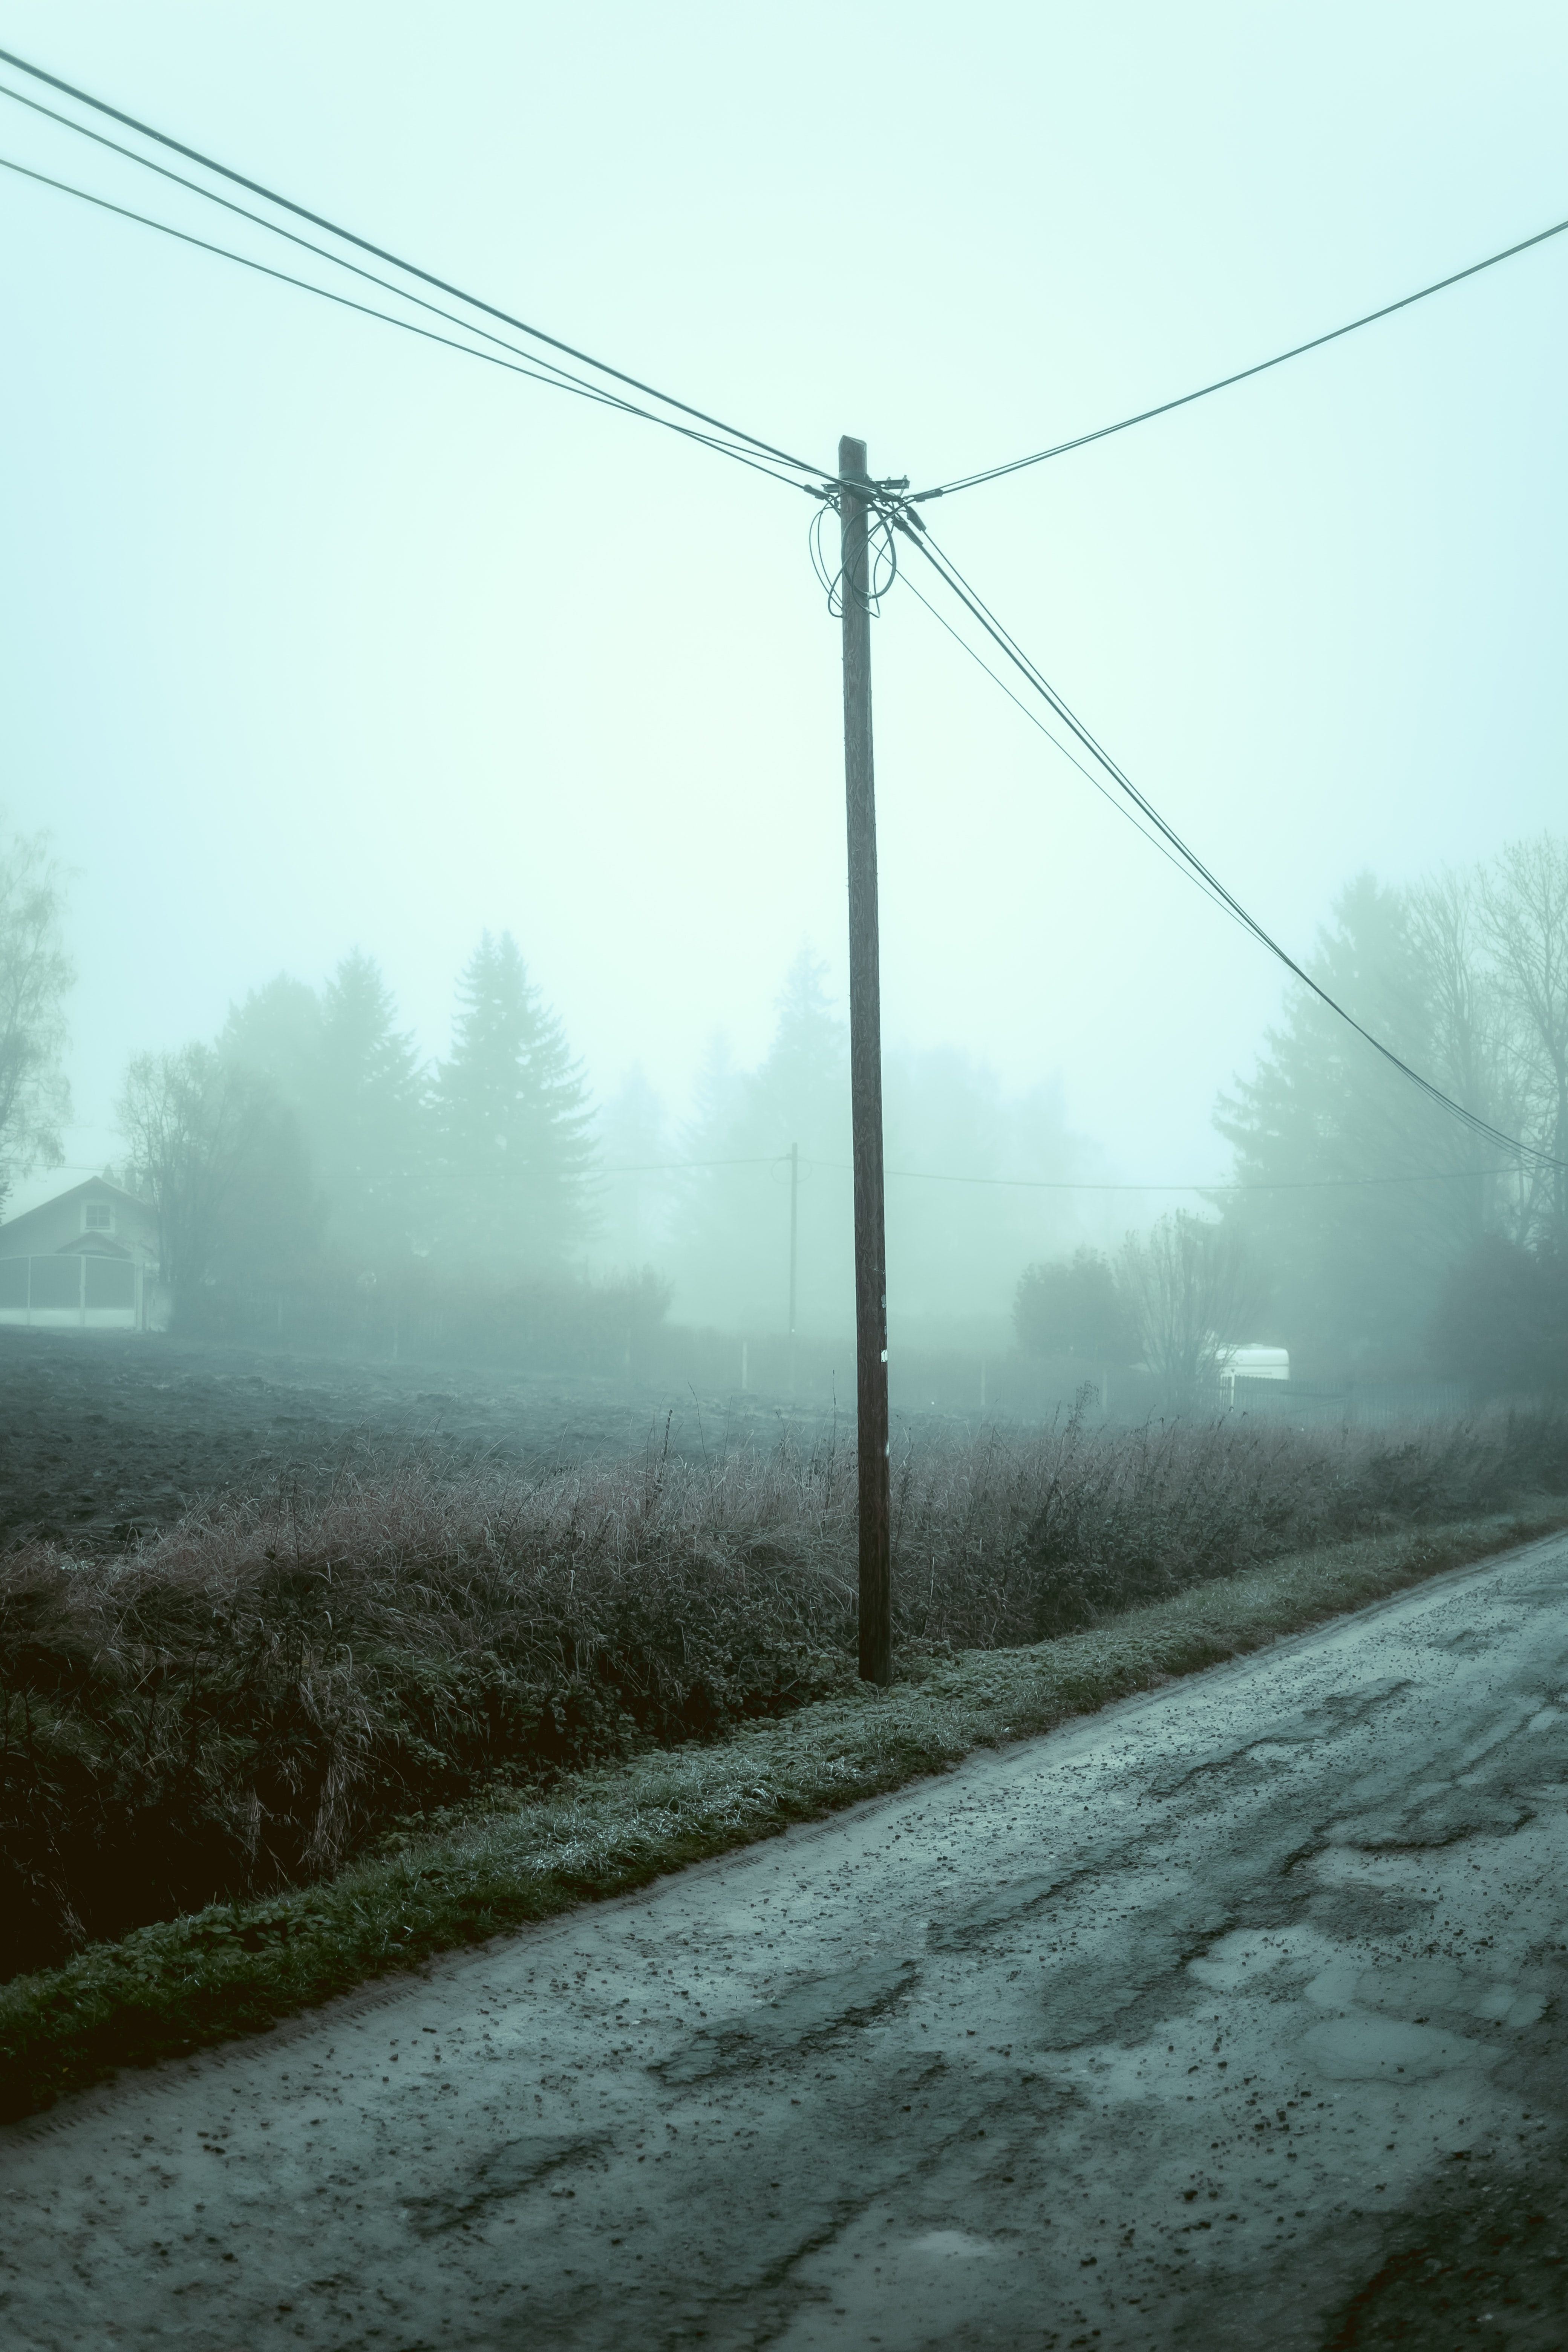utility_pole: (784, 404, 945, 640)
